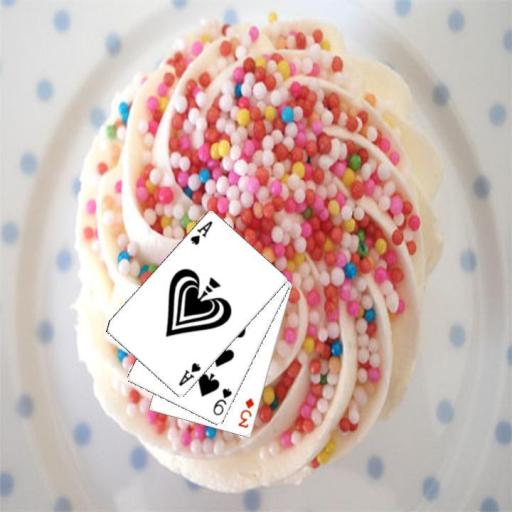3D: (235, 395, 256, 430)
9S: (210, 385, 233, 417)
AS: (187, 218, 214, 247), (176, 360, 203, 387)
